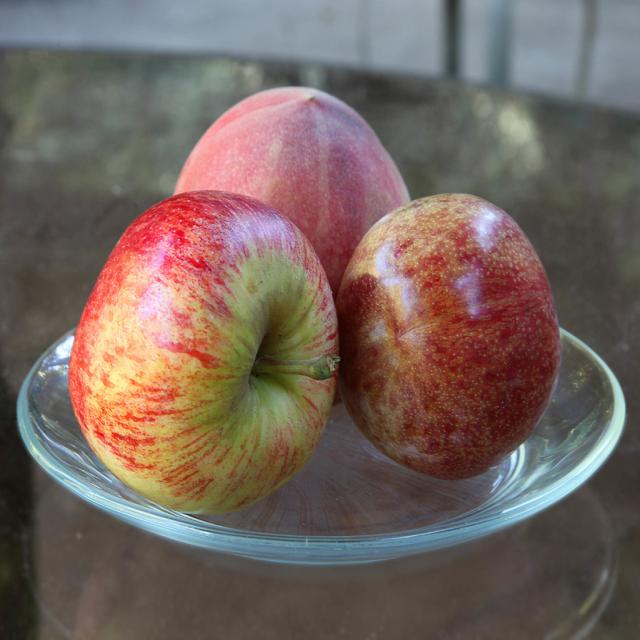Healty Apple: (67, 184, 339, 516), (335, 191, 561, 480), (172, 86, 413, 298)
